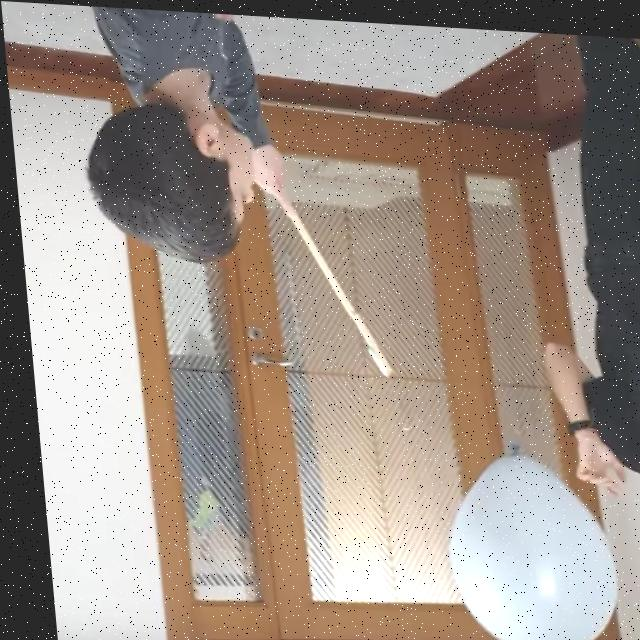balloon: (431, 440, 610, 640)
